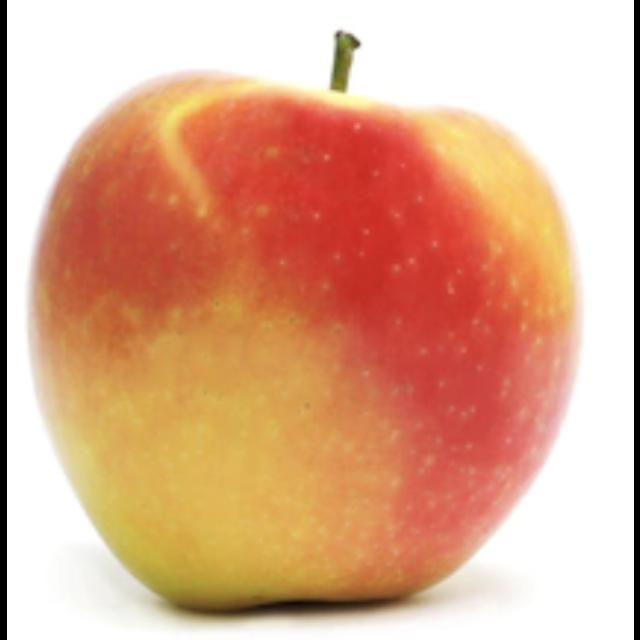Apel Segar: (18, 59, 594, 633)
